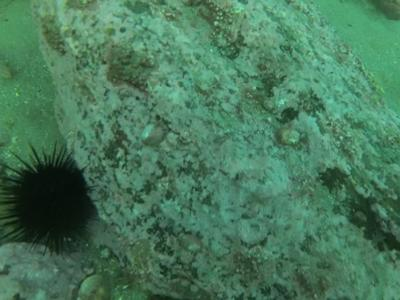urchin: (4, 138, 109, 254)
